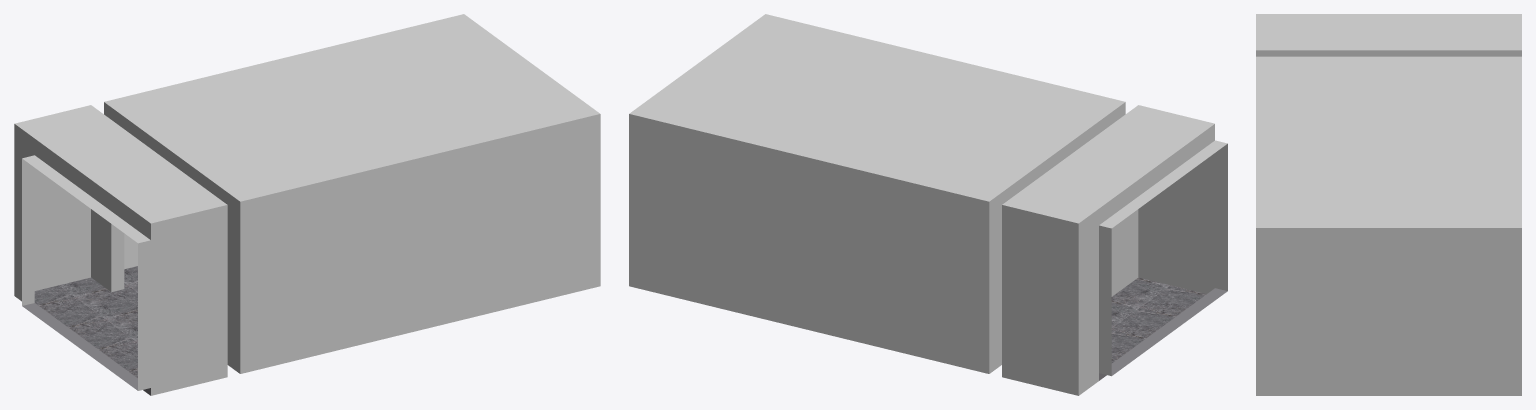
The model's file is homes.glb.
The picture shows the model from 3 angles, left to right: view 1: azimuth 30°, elevation 25°; view 2: azimuth 150°, elevation 25°; view 3: azimuth 270°, elevation 25°; orthographic projection. The views are drawn at different scales.
Visible parts, largest first — view 1: homes; view 2: homes; view 3: homes.
Boxes of the visible parts, x1,y1,x2,y2 form: homes: [14, 14, 600, 395]; homes: [629, 14, 1227, 395]; homes: [1256, 14, 1521, 395].
Bounding box in the file's own units: 7.24 × 2.58 × 3.7.
Materials: 3 (1 with a texture image).
